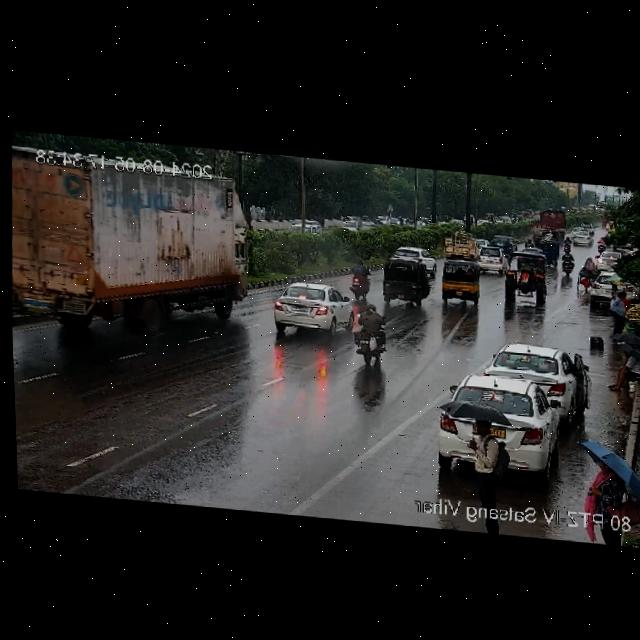car: (429, 371, 573, 484), (485, 341, 584, 407), (261, 280, 350, 337), (378, 257, 433, 307), (501, 255, 547, 309), (587, 269, 637, 308), (436, 260, 480, 302), (441, 232, 482, 259), (473, 245, 510, 273), (388, 245, 433, 263), (288, 220, 323, 242), (533, 238, 560, 263), (490, 234, 518, 253), (336, 218, 362, 237), (568, 228, 591, 245), (491, 216, 512, 231)
motorcycle: (350, 307, 392, 370), (345, 257, 372, 300), (558, 251, 576, 276)
person: (461, 415, 509, 500), (587, 457, 631, 518), (606, 347, 640, 393), (606, 289, 631, 335)
truck: (6, 147, 255, 335), (527, 208, 567, 241)
